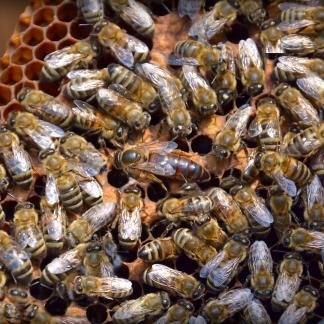Queen-Bee: (114, 141, 209, 184)
worker-bee: (200, 235, 249, 292), (39, 149, 82, 212), (93, 19, 149, 67), (251, 151, 311, 195), (71, 100, 127, 144), (108, 64, 159, 112), (96, 85, 150, 130), (40, 41, 99, 81), (17, 88, 72, 130), (230, 185, 273, 236), (141, 264, 204, 298), (213, 104, 251, 160), (7, 111, 64, 148), (0, 126, 32, 189), (189, 0, 239, 40), (158, 78, 192, 136), (180, 65, 218, 116), (209, 188, 250, 235), (112, 186, 142, 250), (275, 83, 320, 125), (271, 252, 302, 311), (14, 201, 46, 258), (112, 291, 169, 323), (200, 289, 252, 323), (248, 97, 281, 150), (171, 228, 217, 266), (0, 230, 32, 283), (109, 0, 154, 36), (237, 38, 264, 96), (211, 43, 236, 105), (67, 161, 102, 205), (248, 241, 274, 299), (169, 40, 219, 70), (278, 286, 318, 323), (64, 68, 109, 100), (74, 276, 132, 299), (272, 56, 323, 81), (279, 2, 323, 30), (303, 176, 323, 230), (138, 237, 181, 261), (83, 244, 114, 277), (283, 228, 323, 253), (154, 299, 194, 323), (171, 196, 213, 215)
